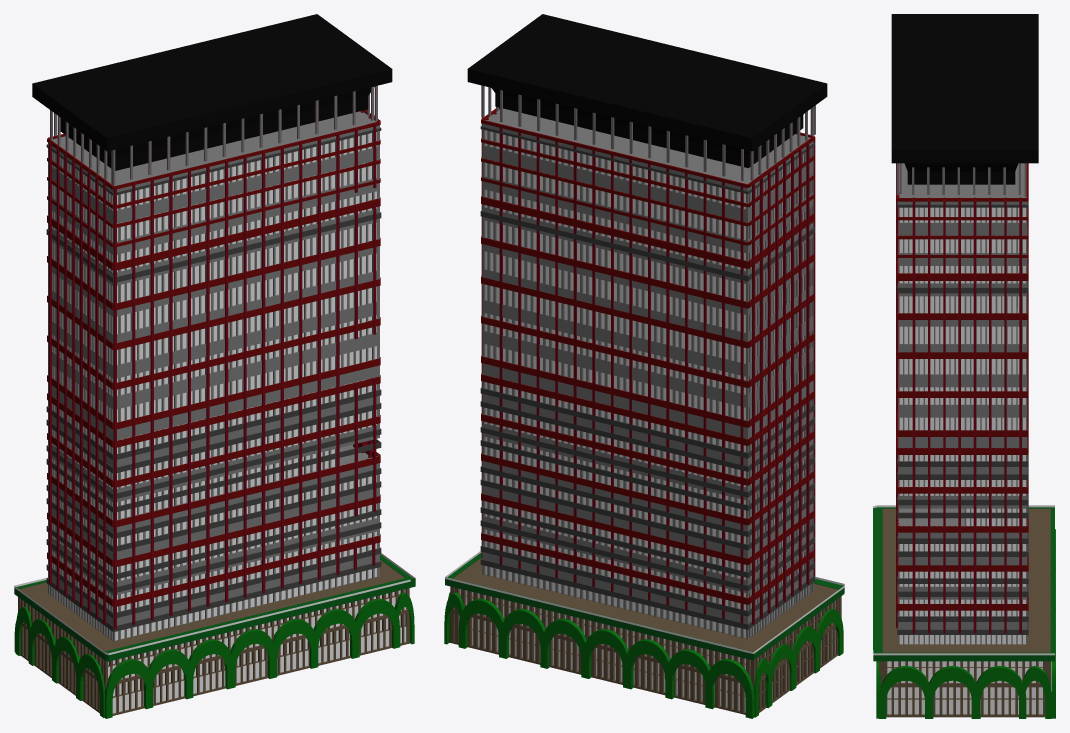
File: 2GovernmentRoad.fbx
The picture shows the model from 3 angles, left to right: view 1: azimuth 30°, elevation 25°; view 2: azimuth 150°, elevation 25°; view 3: azimuth 270°, elevation 25°; orthographic projection. The views are drawn at different scales.
Visible parts, largest first — view 1: 2200woodwardavenueTower, Cube.047, 2200woodwardavenuePlaza, Cube.037, Cube.053, Cube.050, Cube.042, Cube.063, Cube.048, Cube.044, Cube.049, Cube (+28 smaller); view 2: 2200woodwardavenueTower, Cube.047, 2200woodwardavenuePlaza, Cube.037, Cube.053, Cube.051, Cube.063, Cube.041, Cube.044, Cube.049, Cube.048, Cube (+26 smaller); view 3: 2200woodwardavenueTower, Cube.047, 2200woodwardavenuePlaza, Cube.040, Cube.052, Cube.053, Cube.037, Cube, Cube.063, Cube.064, Cube.048, Cube.001 (+16 smaller).
Boxes of the visible parts, x1,y1,x2,y2 form: 2200woodwardavenueTower: [48, 111, 379, 641]; Cube.047: [32, 14, 392, 151]; 2200woodwardavenuePlaza: [18, 559, 409, 715]; Cube.037: [47, 375, 380, 606]; Cube.053: [47, 202, 380, 429]; Cube.050: [113, 212, 339, 452]; Cube.042: [113, 389, 339, 629]; Cube.063: [47, 110, 380, 266]; Cube.048: [60, 86, 374, 170]; Cube.044: [49, 399, 106, 624]; Cube.049: [49, 221, 106, 446]; Cube: [14, 553, 415, 661]; 2200woodwardavenueTower: [482, 108, 813, 639]; Cube.047: [467, 14, 827, 151]; 2200woodwardavenuePlaza: [450, 558, 841, 714]; Cube.037: [481, 373, 814, 604]; Cube.053: [481, 197, 814, 427]; Cube.051: [499, 209, 743, 448]; Cube.063: [481, 107, 814, 264]; Cube.041: [499, 385, 743, 623]; Cube.044: [752, 404, 809, 624]; Cube.049: [752, 233, 809, 447]; Cube.048: [492, 88, 803, 168]; Cube: [445, 551, 844, 660]; 2200woodwardavenueTower: [898, 163, 1027, 644]; Cube.047: [891, 14, 1038, 163]; 2200woodwardavenuePlaza: [879, 508, 1050, 717]; Cube.040: [912, 451, 1021, 633]; Cube.052: [912, 277, 1021, 459]; Cube.053: [897, 274, 1028, 436]; Cube.037: [897, 436, 1028, 610]; Cube: [873, 505, 1054, 661]; Cube.063: [897, 163, 1028, 276]; Cube.064: [912, 197, 1021, 288]; Cube.048: [904, 163, 1018, 184]; Cube.001: [879, 666, 932, 718].
Bounding box in the file's own units: 4890 × 8640 × 2550.
